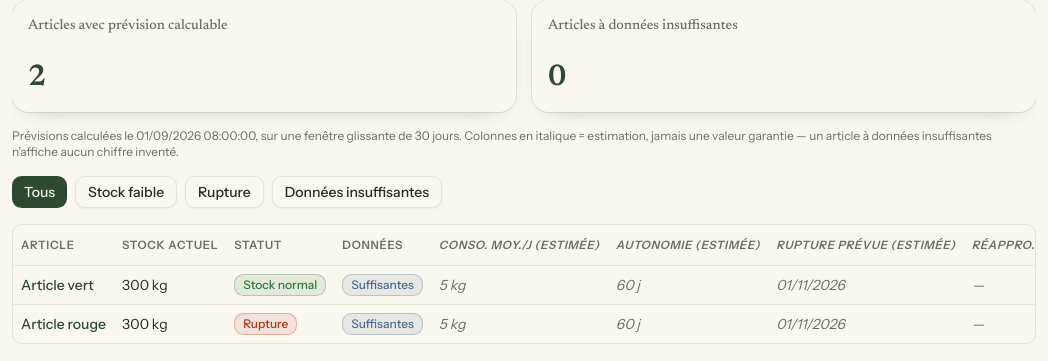
Scenario: StockForecastReport › filtre par statut (Rupture) au clic
Expected: the link "Article vert" is shown, 21,276 -> 94,294
Expected: the link "Article rouge" is shown, 21,314 -> 106,332
Click the button "Rupture".
click(224, 192)  # box 185,176 -> 264,208
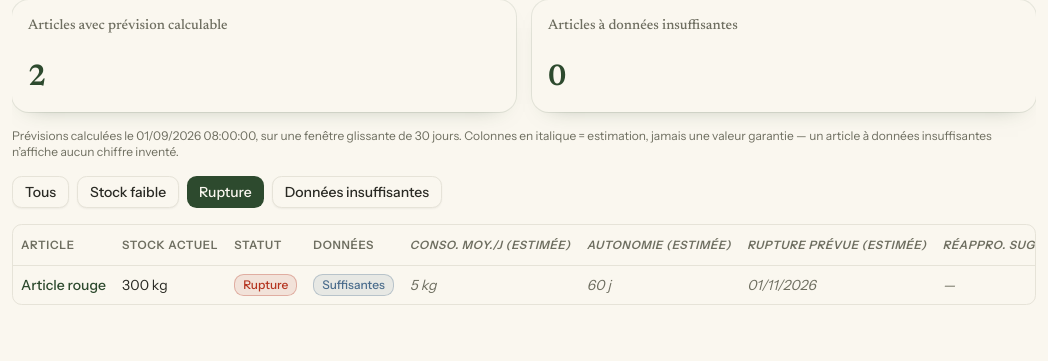
Expected: the link "Article rouge" is shown, 21,276 -> 106,294
Now the link "Article vert" is gone
